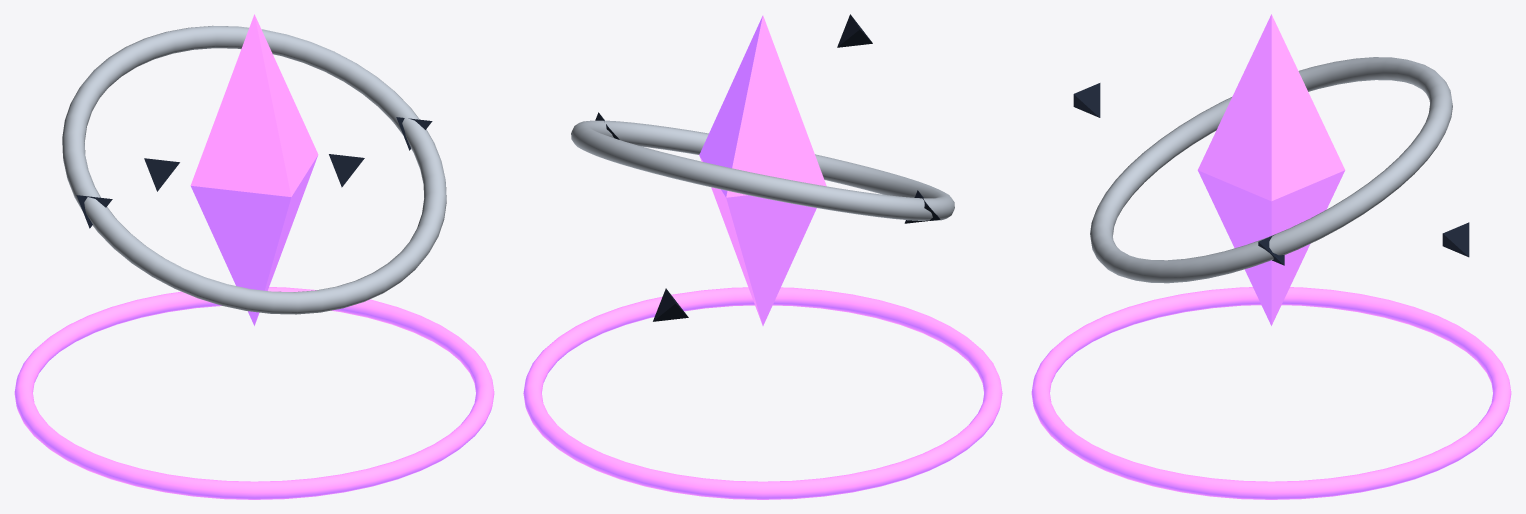
Rendered from pickup_gravium.glb.
The picture shows the model from 3 angles, left to right: view 1: azimuth 30°, elevation 25°; view 2: azimuth 150°, elevation 25°; view 3: azimuth 270°, elevation 25°; orthographic projection.
Visible parts, largest first — view 1: gravium_ring, gravium_shard, gravium_ground, gravium_debris1, gravium_debris3; view 2: gravium_ground, gravium_shard, gravium_ring, gravium_debris1, gravium_debris3; view 3: gravium_shard, gravium_ground, gravium_ring, gravium_debris1, gravium_debris3.
Boxes of the visible parts, x1=… form: gravium_ring: x1=62, y1=25, x2=446, y2=314; gravium_shard: x1=190, y1=14, x2=318, y2=325; gravium_ground: x1=14, y1=287, x2=494, y2=499; gravium_debris1: x1=329, y1=154, x2=364, y2=187; gravium_debris3: x1=144, y1=158, x2=179, y2=191; gravium_ground: x1=523, y1=287, x2=1002, y2=499; gravium_shard: x1=699, y1=15, x2=826, y2=325; gravium_ring: x1=571, y1=120, x2=954, y2=220; gravium_debris1: x1=837, y1=14, x2=872, y2=47; gravium_debris3: x1=653, y1=288, x2=688, y2=321; gravium_shard: x1=1197, y1=14, x2=1345, y2=325; gravium_ground: x1=1031, y1=287, x2=1511, y2=499; gravium_ring: x1=1090, y1=57, x2=1452, y2=283; gravium_debris1: x1=1073, y1=83, x2=1100, y2=117; gravium_debris3: x1=1442, y1=222, x2=1469, y2=257.
Size of the model in its own units: 0.624 by 0.556 by 0.624.
